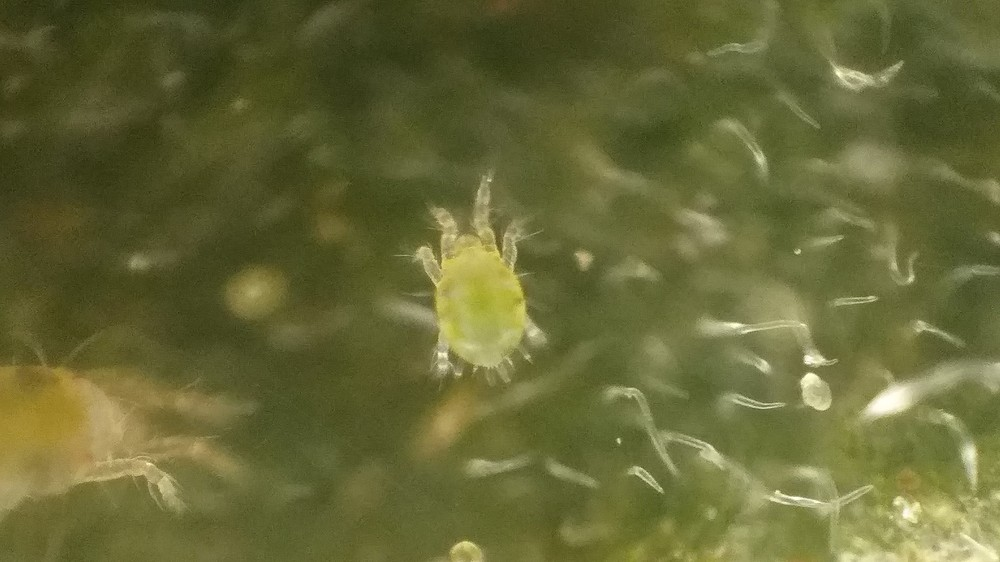Aracnido Rojo: (4, 320, 272, 533), (363, 158, 598, 400)
